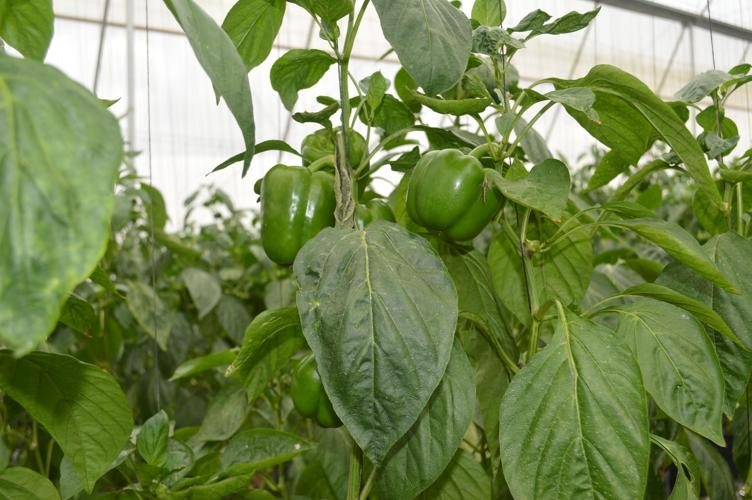BellPepper: (241, 150, 361, 276), (398, 139, 513, 263), (288, 350, 363, 443)
